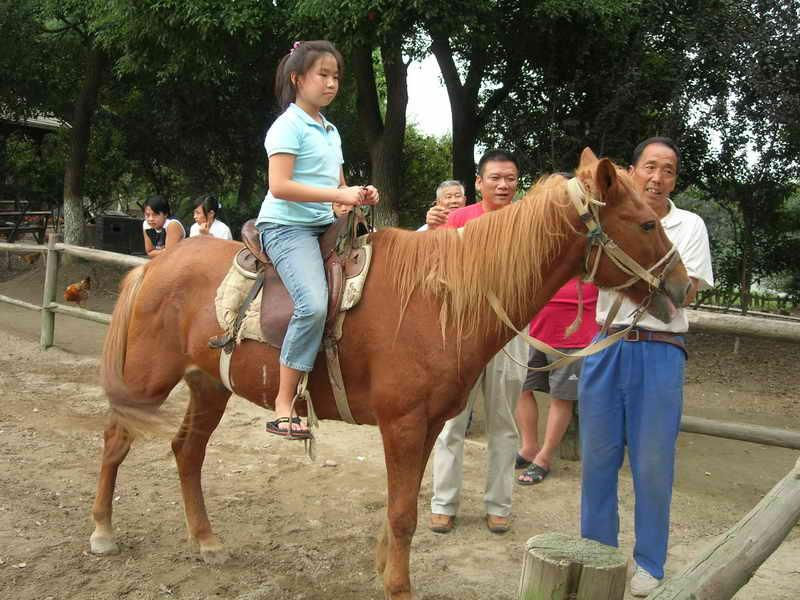person: (256, 42, 381, 435)
